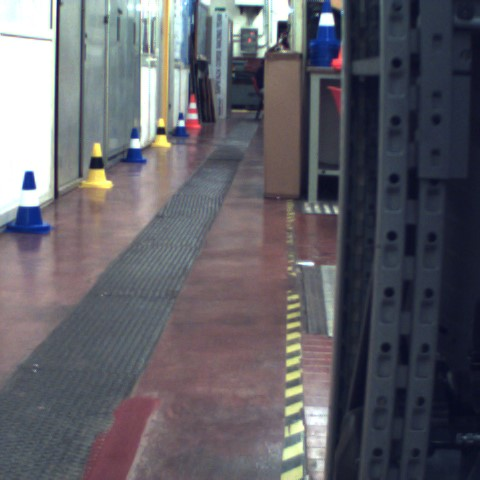cone: (3, 171, 52, 235), (121, 127, 145, 164), (172, 112, 189, 136)
